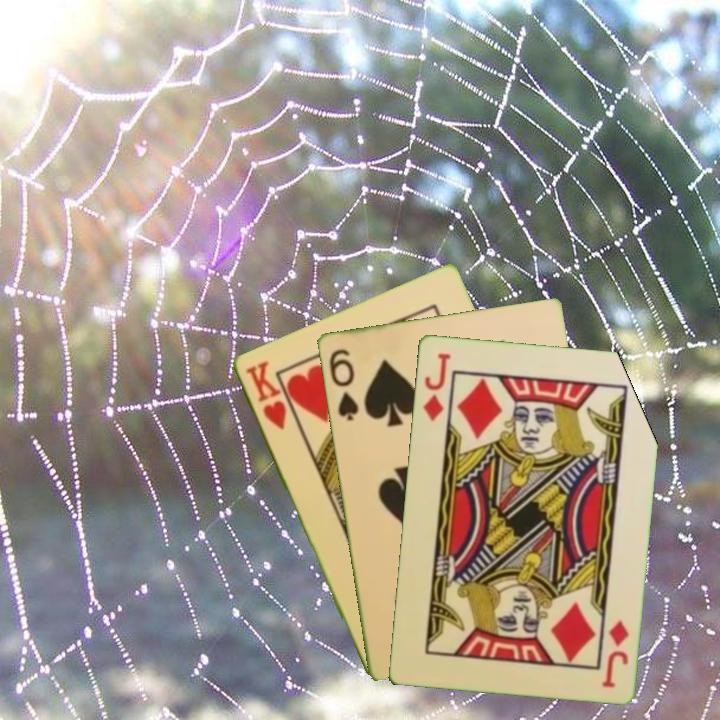6s: (325, 344, 361, 424)
Jd: (418, 349, 453, 424), (598, 616, 631, 690)
Kh: (241, 357, 289, 433)
